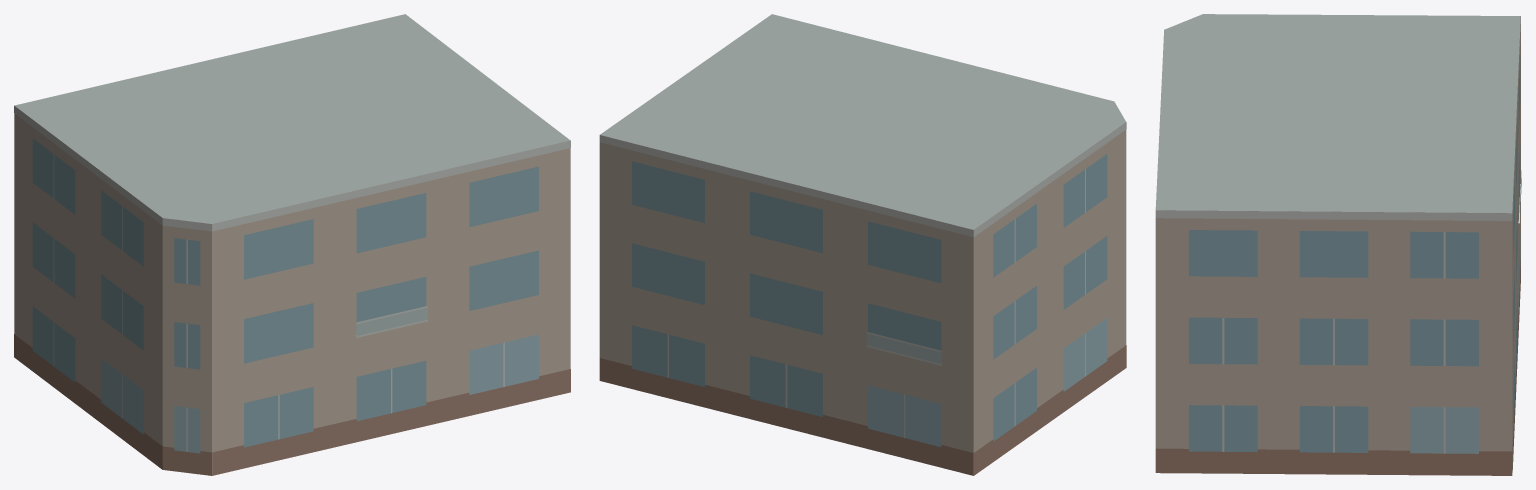
File: survey-upis-32493664.glb
The picture shows the model from 3 angles, left to right: view 1: azimuth 30°, elevation 25°; view 2: azimuth 150°, elevation 25°; view 3: azimuth 270°, elevation 25°; orthographic projection. The views are drawn at different scales.
Visible parts, largest first — view 1: survey-upis-32493664.tmp; view 2: survey-upis-32493664.tmp; view 3: survey-upis-32493664.tmp.
Part boxes in pixels (bbox=[...]): survey-upis-32493664.tmp: bbox=[14, 14, 570, 475]; survey-upis-32493664.tmp: bbox=[599, 14, 1126, 475]; survey-upis-32493664.tmp: bbox=[1155, 14, 1521, 475].
Bounding box in the file's own units: 13.34 × 8.2 × 10.36.
